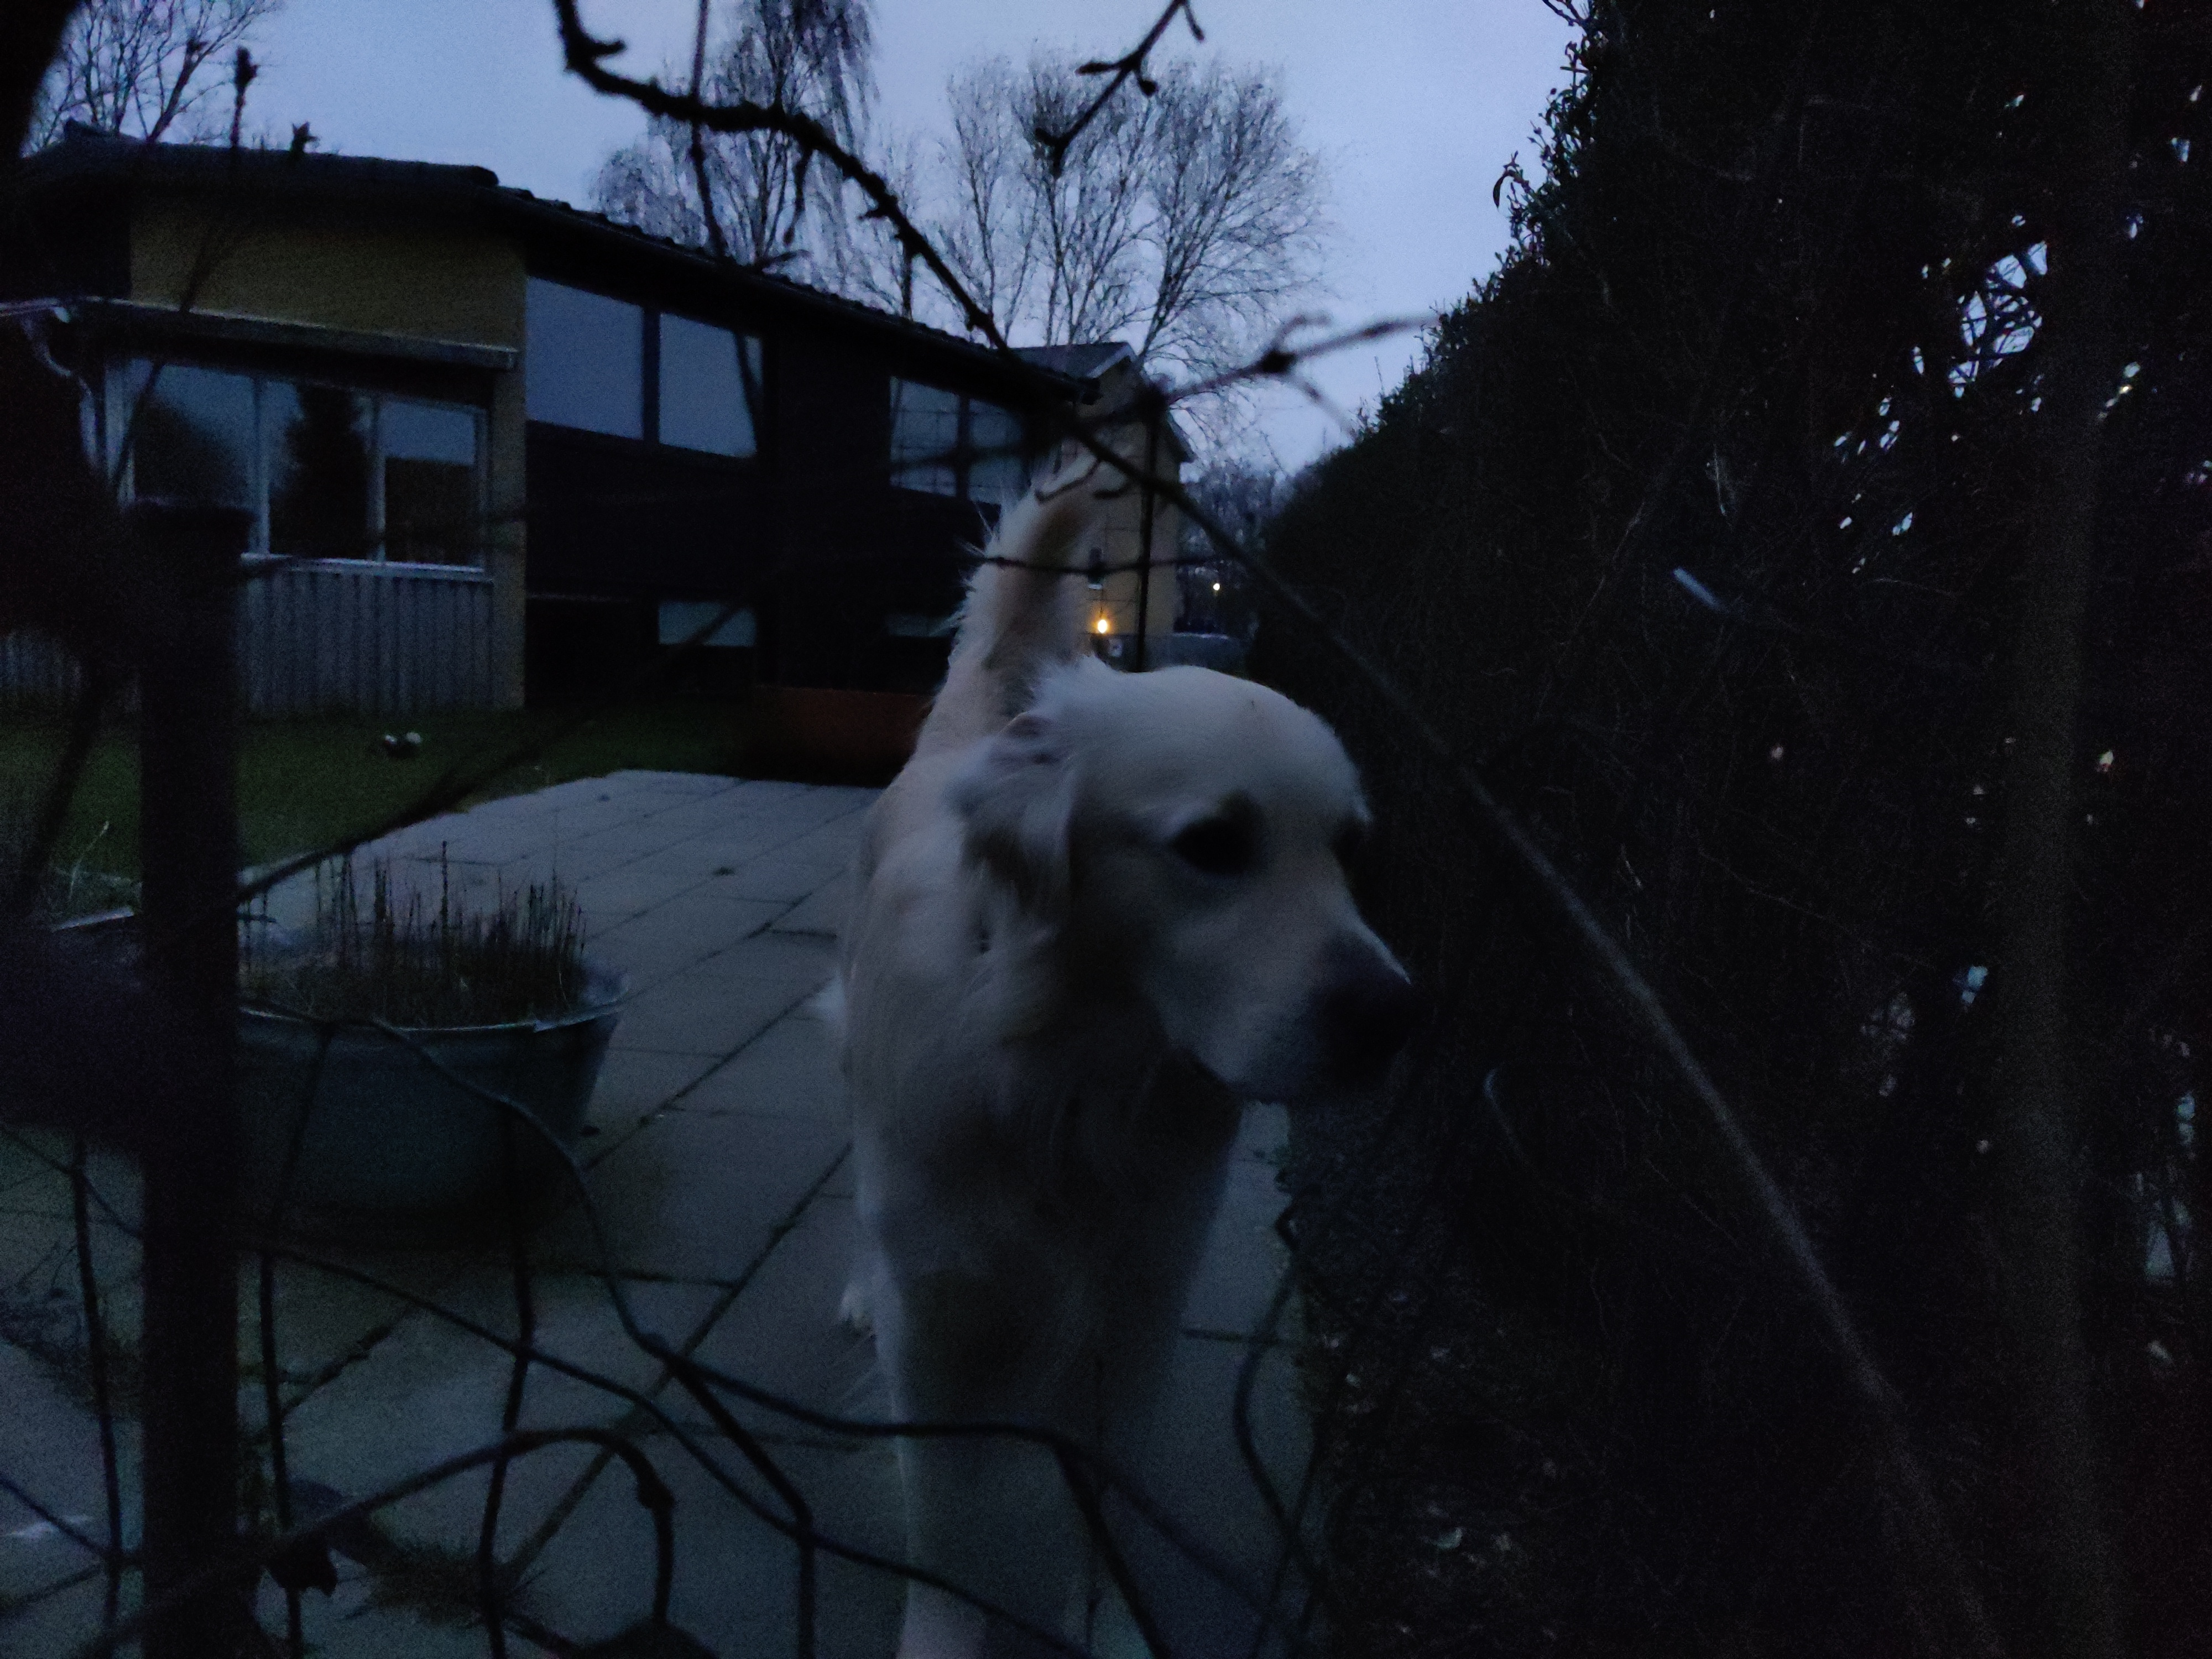Dog: (813, 425, 1423, 1659)
